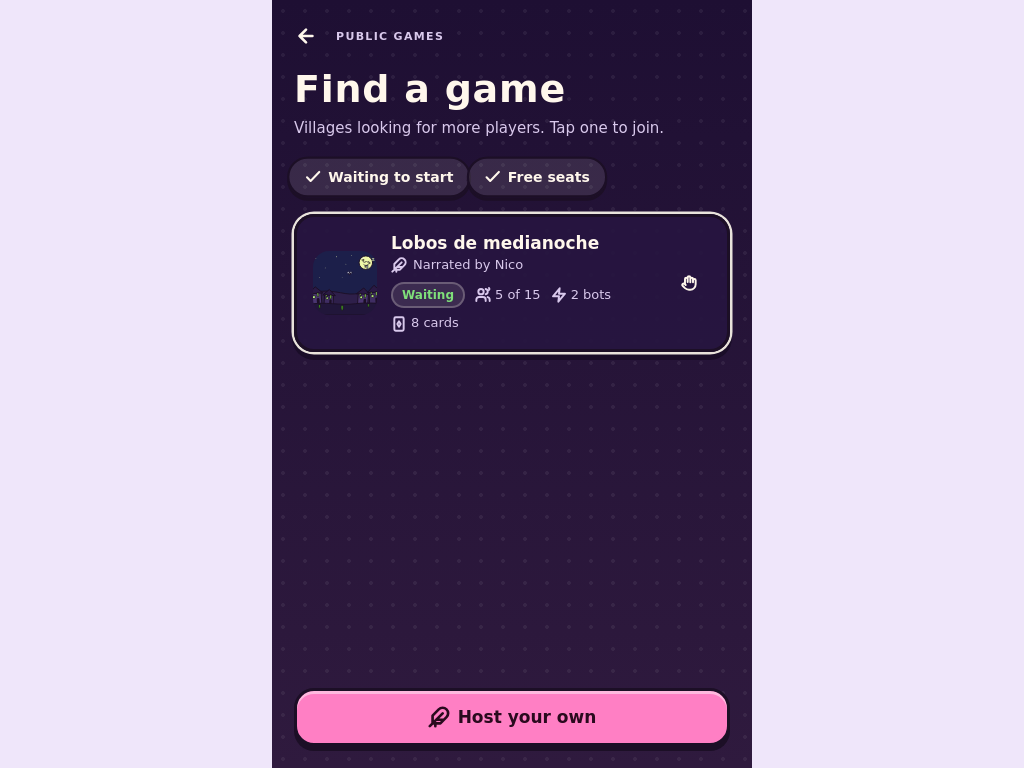
Scenario: PublicGamesView › shows why a report failed
Click the button with class "games-report".
click(689, 283)  # box [667,261,711,305]
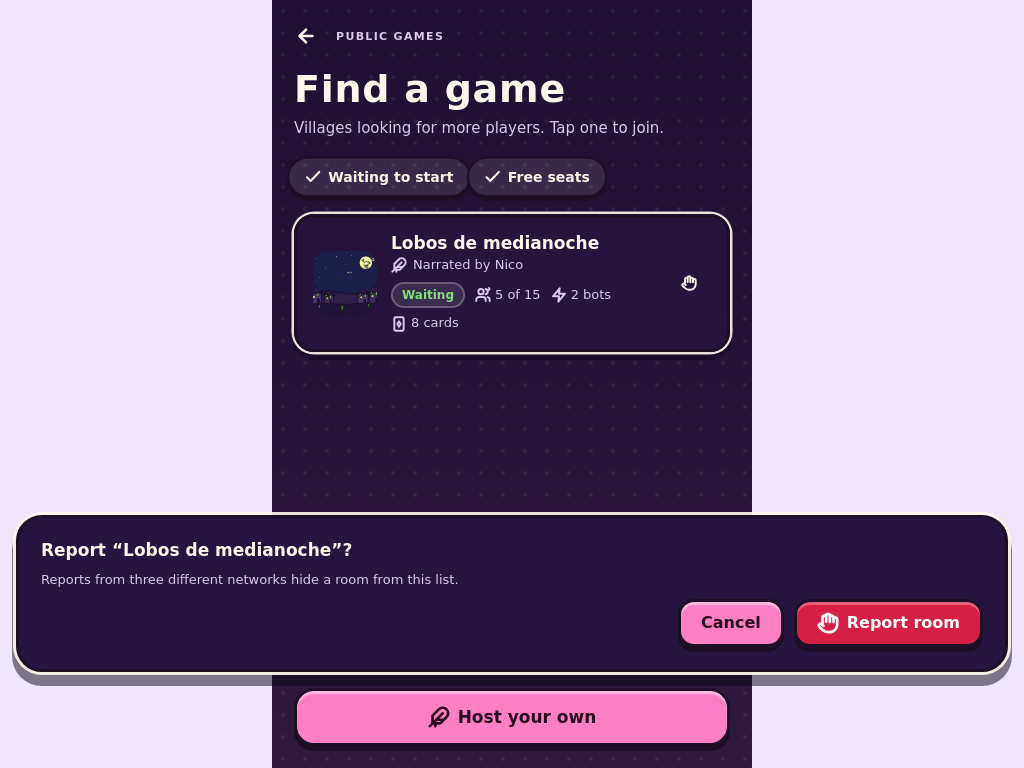
Click the button with class "btn-danger".
click(888, 623)  # box [794,599,983,647]
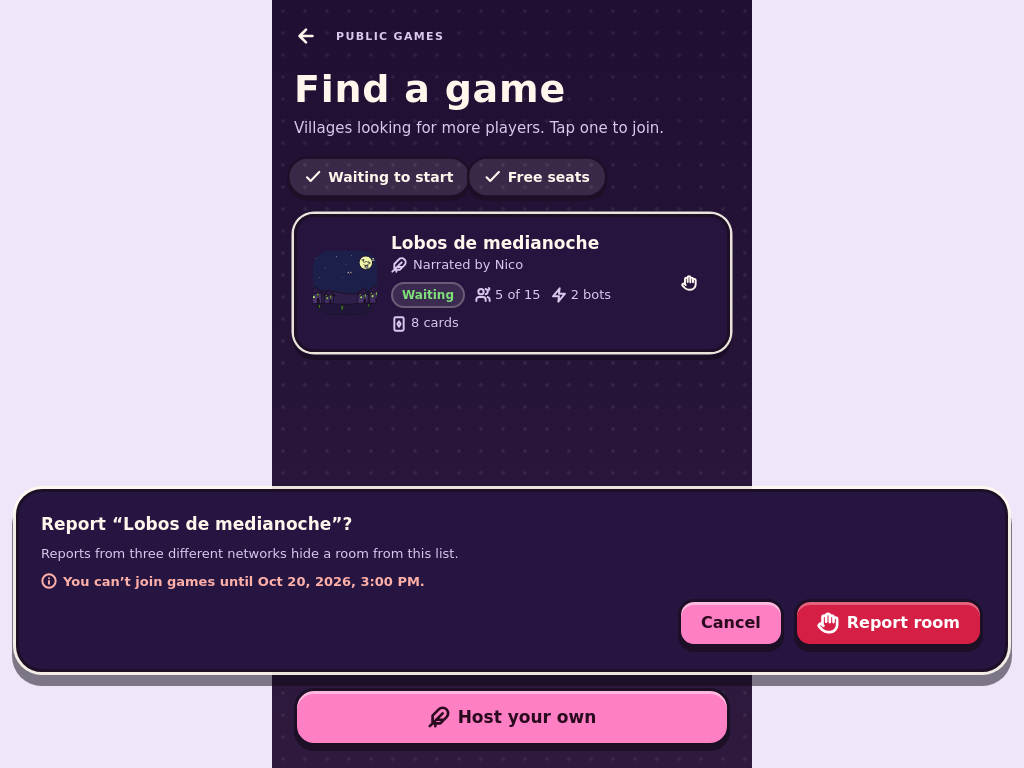
Expected: the dialog shows "You can’t join games until", [63,574,425,588]
